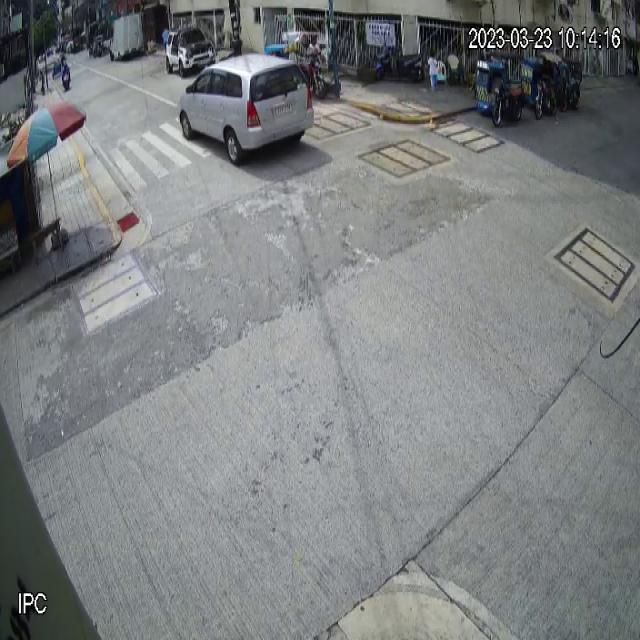Car: (178, 52, 315, 166)
Tricycle: (475, 50, 524, 126)
